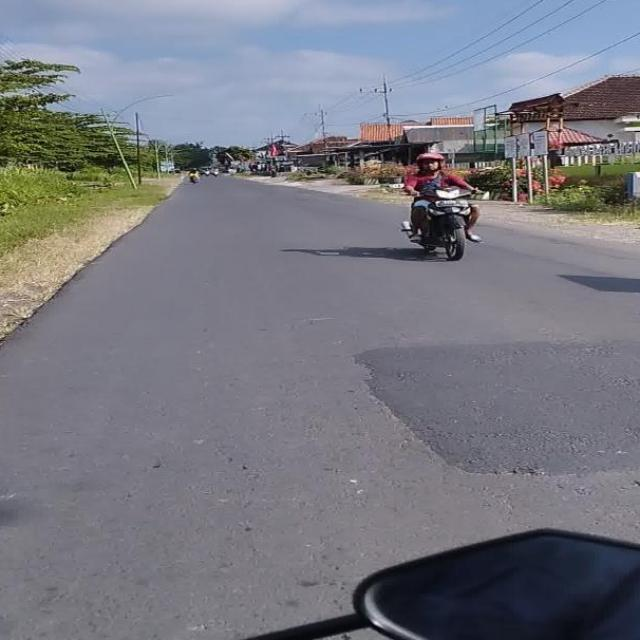Sambungan: (362, 343, 640, 473)
